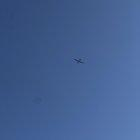Plane: (68, 55, 87, 68)
